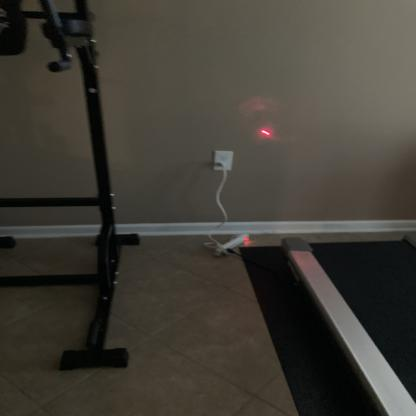target: (258, 127, 272, 137)
